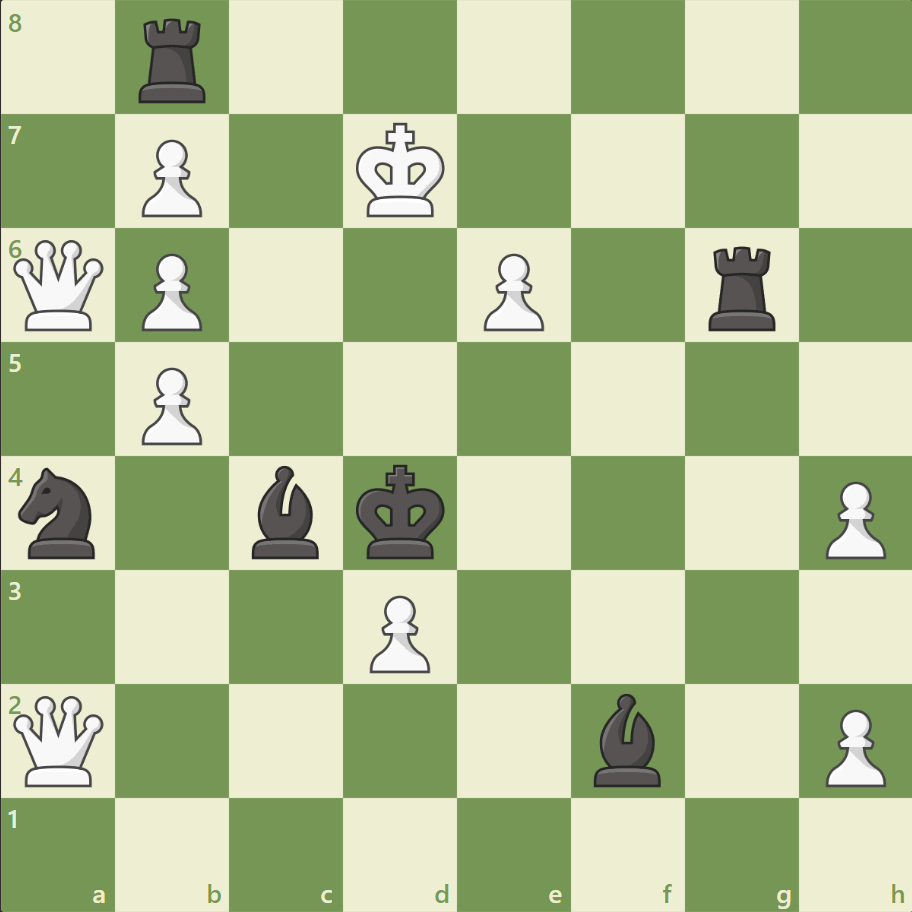K: (351, 117, 451, 225)
P: (133, 132, 208, 223), (133, 246, 208, 337), (474, 246, 549, 337), (133, 359, 208, 450), (815, 473, 889, 564), (361, 586, 435, 677), (815, 700, 889, 791)
Q: (10, 236, 109, 335), (10, 690, 109, 789)
b: (244, 460, 328, 563), (585, 687, 669, 790)
k: (351, 458, 451, 566)
n: (11, 461, 108, 564)
r: (700, 239, 783, 336), (133, 12, 215, 109)
